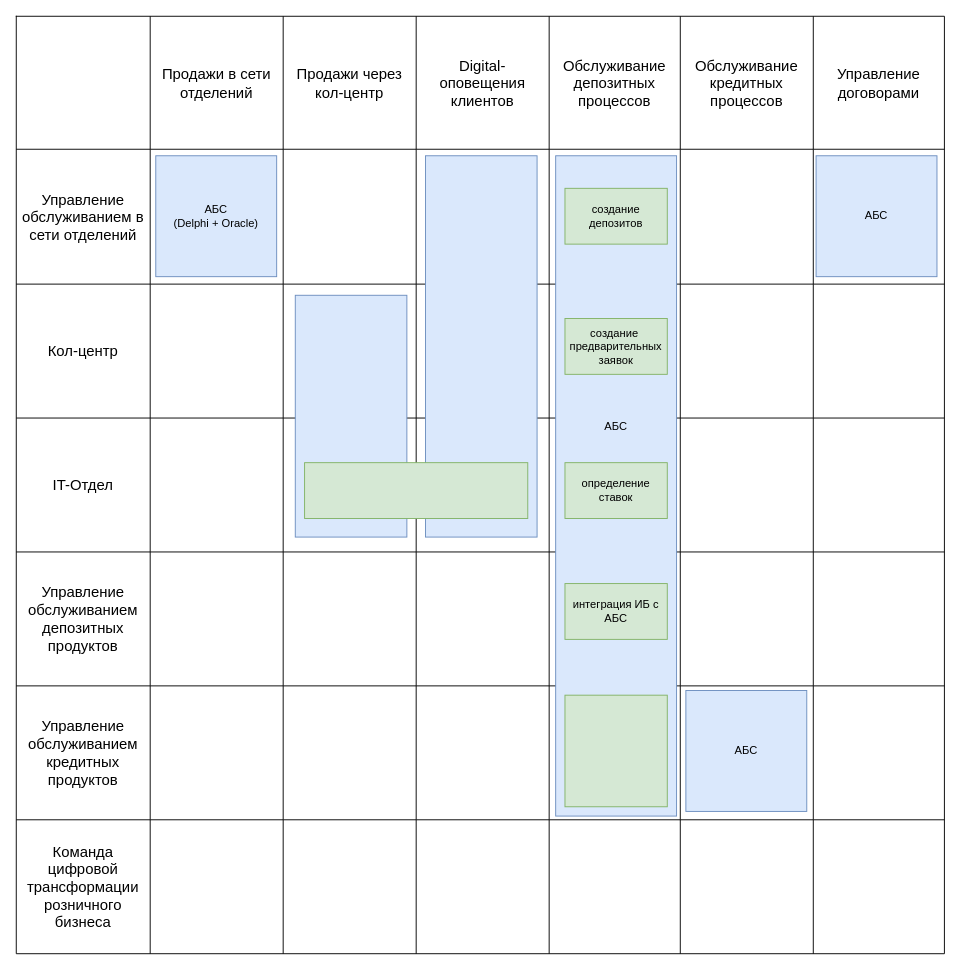
Some shapes in this 961 by 970 pixel diagram are drawn without their labels. Each missing label, with the centre of its shape:
"- расчет ставок на день - расчет специальных ставок" goes at (615,750).
"поддержка со стороны IT отдела" goes at (416,490).
"Система кол-центра (React.js + Java Spring Boot)" goes at (350,415).
"СМС-шлюз" goes at (481,346).
